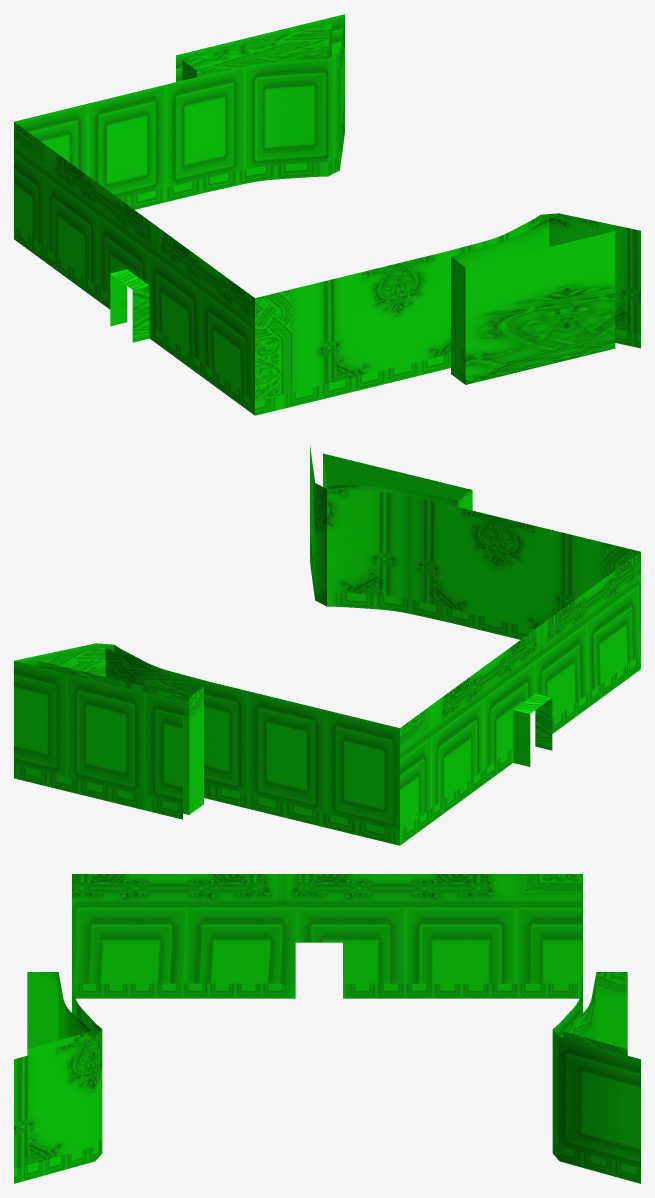
3 views of the same model, one above another, from view 1: azimuth 30°, elevation 25°; view 2: azimuth 150°, elevation 25°; view 3: azimuth 270°, elevation 25° (orthographic). The views are drawn at different scales.
Visible parts, largest first — view 1: 메인 홀 벽; view 2: 메인 홀 벽; view 3: 메인 홀 벽.
Part boxes in pixels (box(x1,y1,x2,y2)): 메인 홀 벽: box(14, 14, 640, 415); 메인 홀 벽: box(14, 446, 640, 845); 메인 홀 벽: box(14, 874, 640, 1183).
Bounding box in the file's own units: 661 × 198 × 903.
